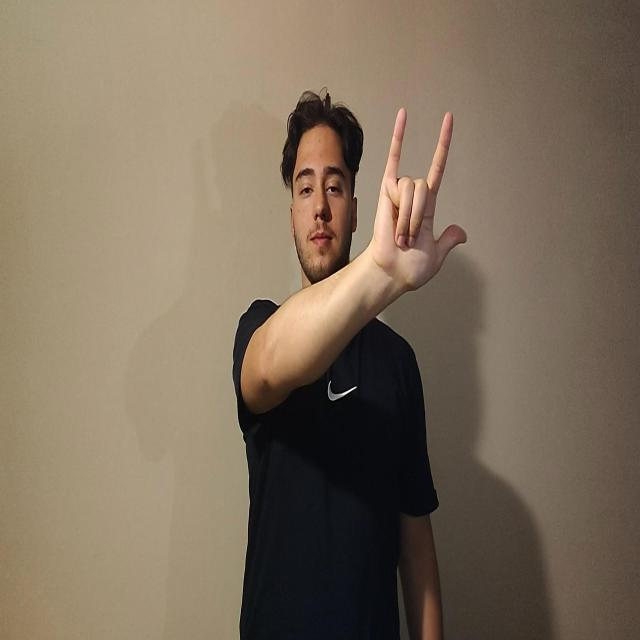iloveyou: (370, 105, 468, 296)
